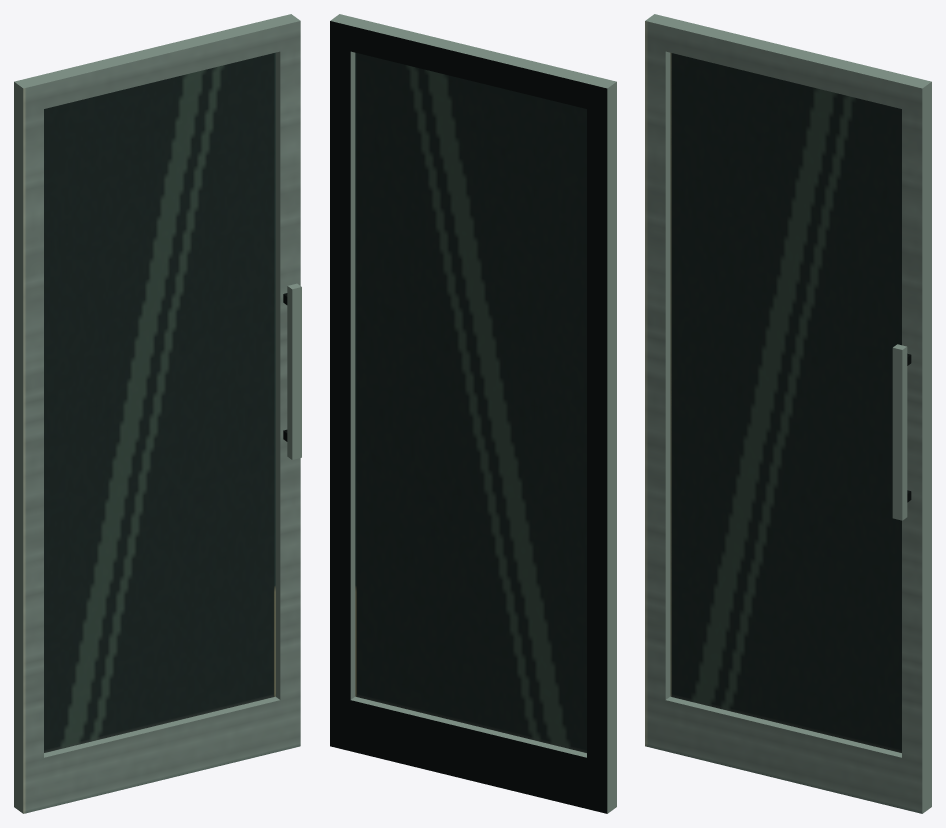
The model's file is SM_LabCold_Door_L_68x4x170.fbx.
3 renders of one model, left to right at view 1: azimuth 30°, elevation 25°; view 2: azimuth 150°, elevation 25°; view 3: azimuth 330°, elevation 25°, orthographic.
Visible parts, largest first — view 1: SM_LabCold_Door_L_68x4x170.001; view 2: SM_LabCold_Door_L_68x4x170.001; view 3: SM_LabCold_Door_L_68x4x170.001.
Part boxes in pixels (x1,y1,x2,y2): SM_LabCold_Door_L_68x4x170.001: (14,14,301,813); SM_LabCold_Door_L_68x4x170.001: (330,14,616,813); SM_LabCold_Door_L_68x4x170.001: (645,14,931,813).
Size of the model in its own units: 0.68 by 1.7 by 0.085.
